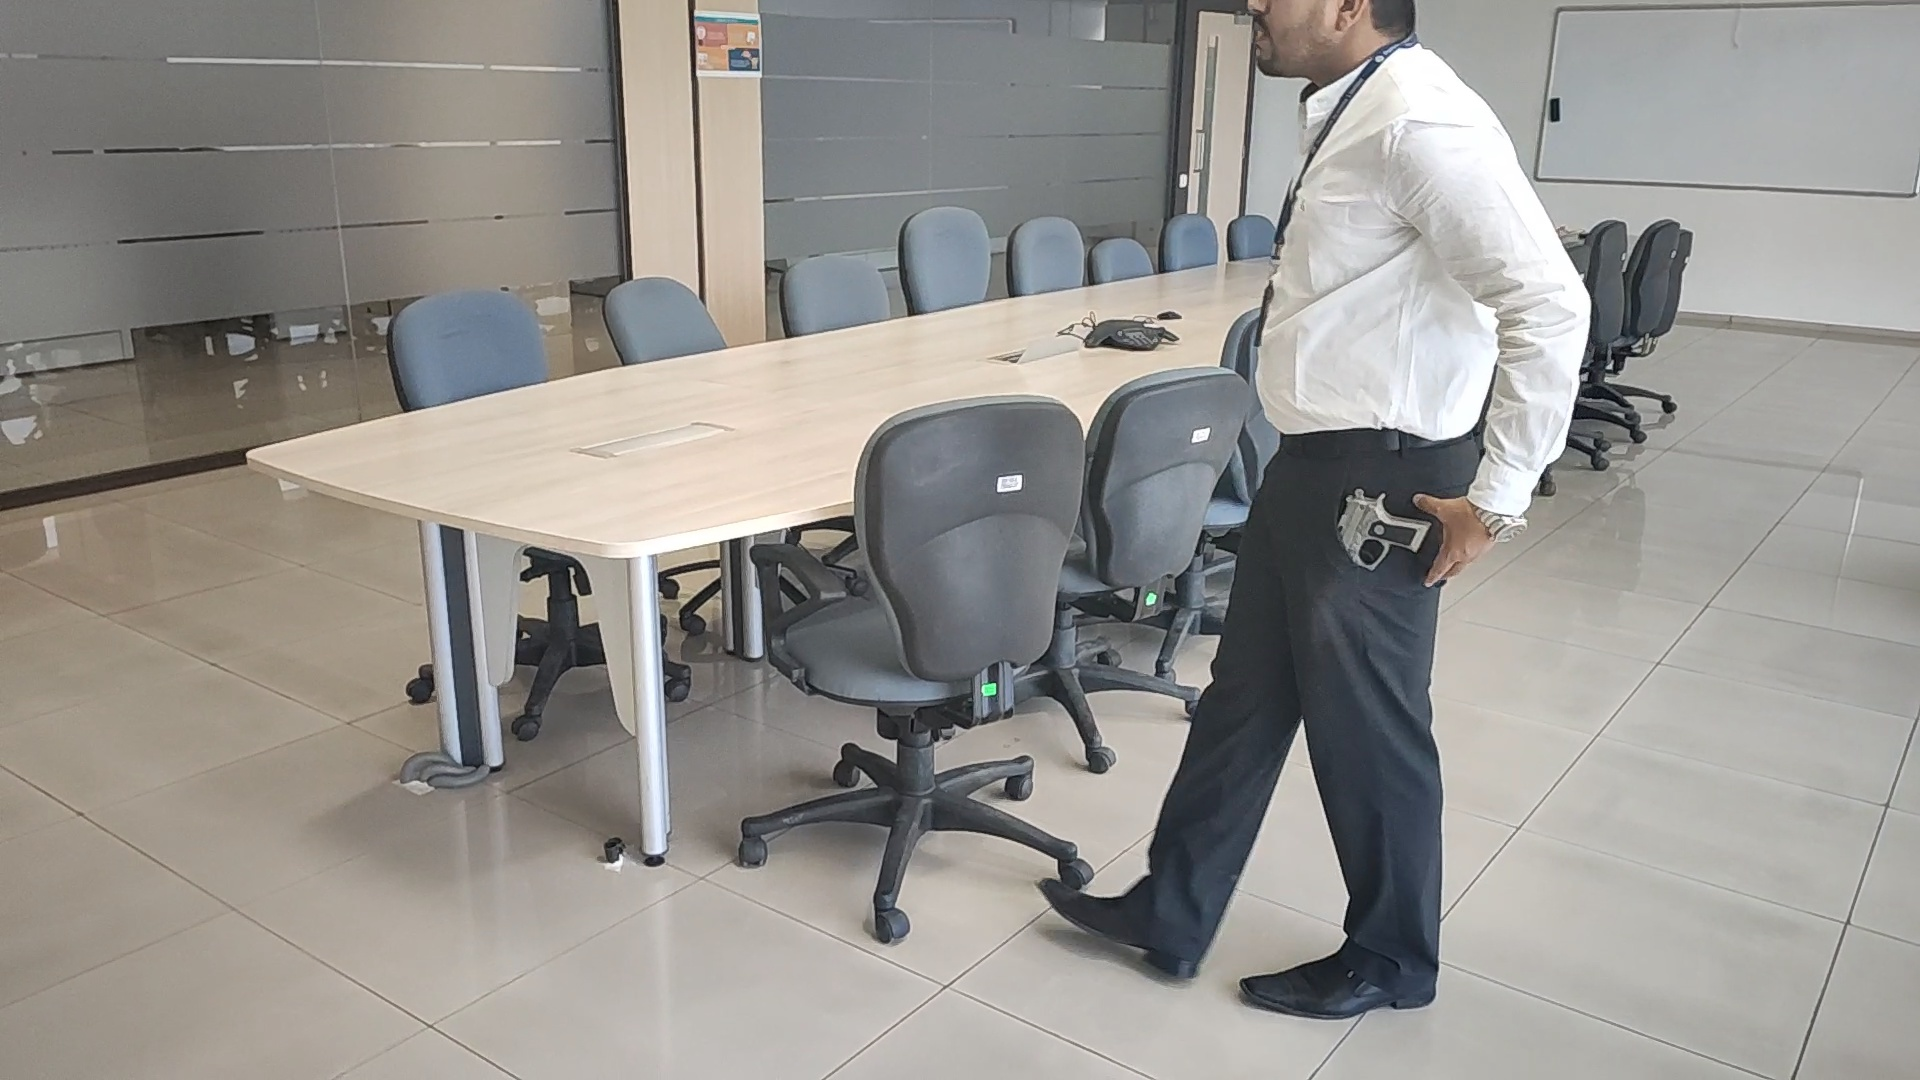gun: (1341, 487, 1424, 568)
